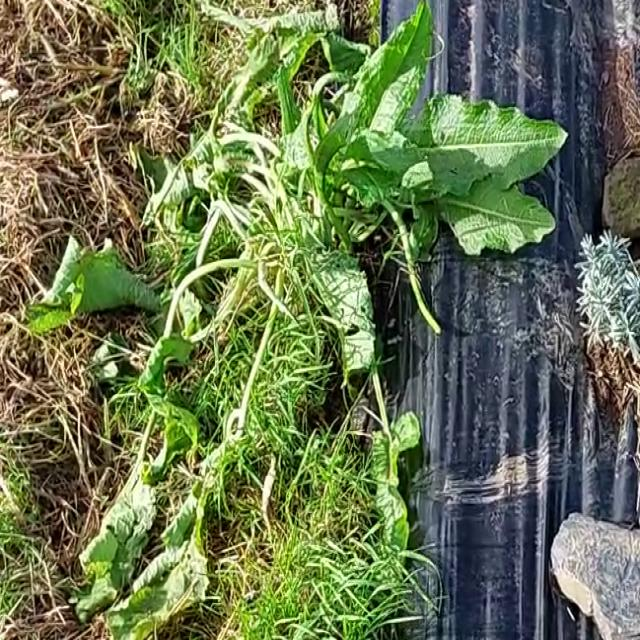organic waste: (145, 0, 581, 313), (3, 179, 263, 386), (72, 381, 262, 640)
